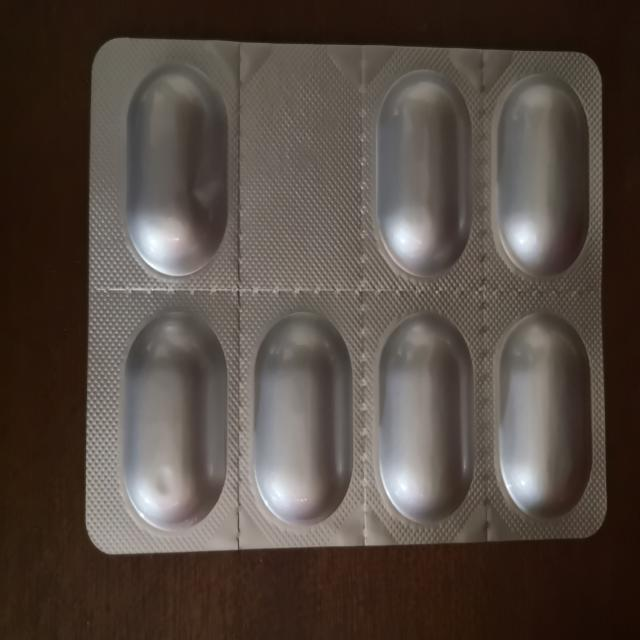Pill: (119, 56, 233, 287), (370, 309, 486, 528), (118, 312, 232, 529), (247, 312, 359, 531), (372, 67, 480, 280), (490, 72, 595, 282), (493, 310, 598, 520)
